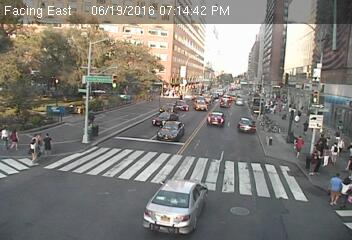neg: (63, 151, 82, 177), (70, 19, 89, 44), (260, 151, 275, 171), (109, 44, 124, 63), (26, 181, 41, 200), (263, 185, 276, 203), (64, 54, 77, 70), (73, 188, 85, 205), (234, 9, 246, 26), (122, 125, 134, 141), (117, 170, 129, 186), (211, 32, 223, 48), (173, 39, 185, 54), (153, 27, 164, 43), (40, 40, 51, 56), (147, 155, 158, 170), (237, 118, 248, 132), (245, 33, 256, 47), (299, 14, 309, 29), (25, 79, 35, 93), (178, 193, 188, 206), (219, 90, 229, 103), (88, 65, 98, 78), (274, 16, 284, 29), (322, 21, 332, 34), (159, 134, 169, 146), (118, 19, 127, 31), (79, 100, 88, 112), (282, 52, 291, 64), (194, 5, 203, 17), (313, 45, 322, 56), (198, 135, 206, 146), (228, 188, 236, 199), (183, 168, 191, 178), (110, 87, 117, 96)
pos: (320, 171, 343, 202), (290, 133, 308, 158), (7, 127, 24, 150), (41, 131, 57, 152), (300, 117, 314, 137)
